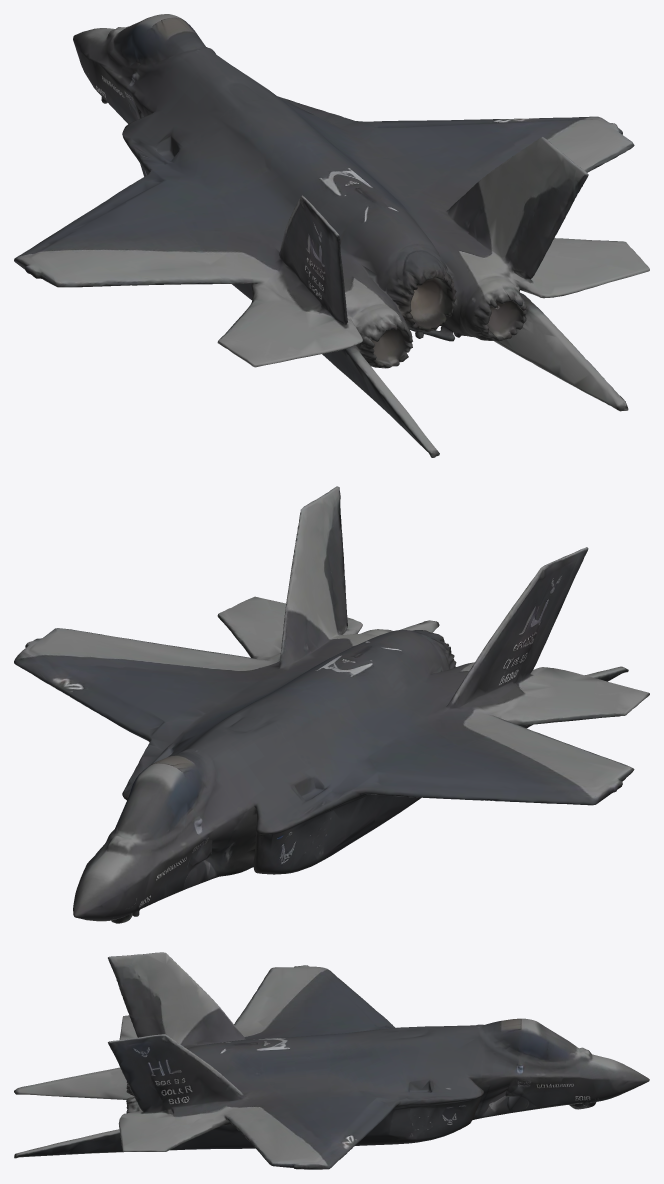
File: shade-DGQXafrN.glb
3 views of the same model, one above another, from view 1: azimuth 30°, elevation 25°; view 2: azimuth 150°, elevation 25°; view 3: azimuth 270°, elevation 25° (orthographic). The views are drawn at different scales.
Visible parts, largest first — view 1: tripo_node_16500981-5b28-43c9-82e1-fd0ea5e3e698; view 2: tripo_node_16500981-5b28-43c9-82e1-fd0ea5e3e698; view 3: tripo_node_16500981-5b28-43c9-82e1-fd0ea5e3e698.
Part boxes in pixels (bbox=[...]): tripo_node_16500981-5b28-43c9-82e1-fd0ea5e3e698: bbox=[14, 14, 649, 457]; tripo_node_16500981-5b28-43c9-82e1-fd0ea5e3e698: bbox=[14, 486, 649, 923]; tripo_node_16500981-5b28-43c9-82e1-fd0ea5e3e698: bbox=[14, 952, 649, 1169].
Size of the model in its own units: 0.7473 by 0.2384 by 1.
Materials: 1 (1 with a texture image).
